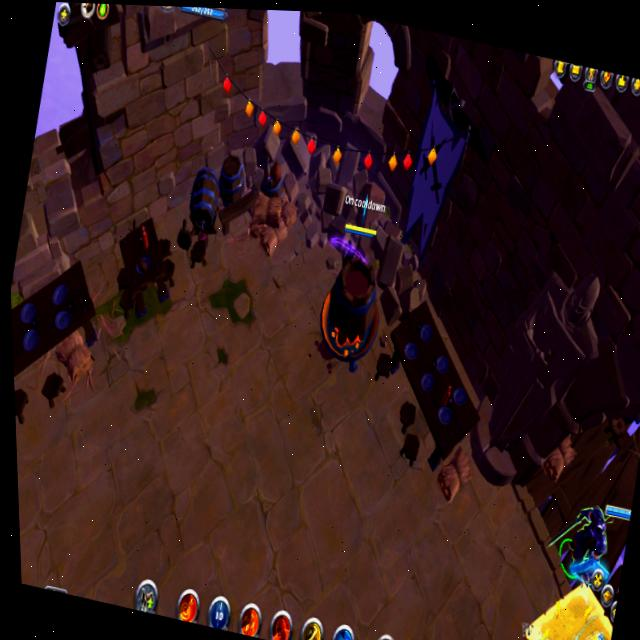red: (554, 489, 636, 595), (329, 219, 382, 310), (444, 631, 516, 640)
